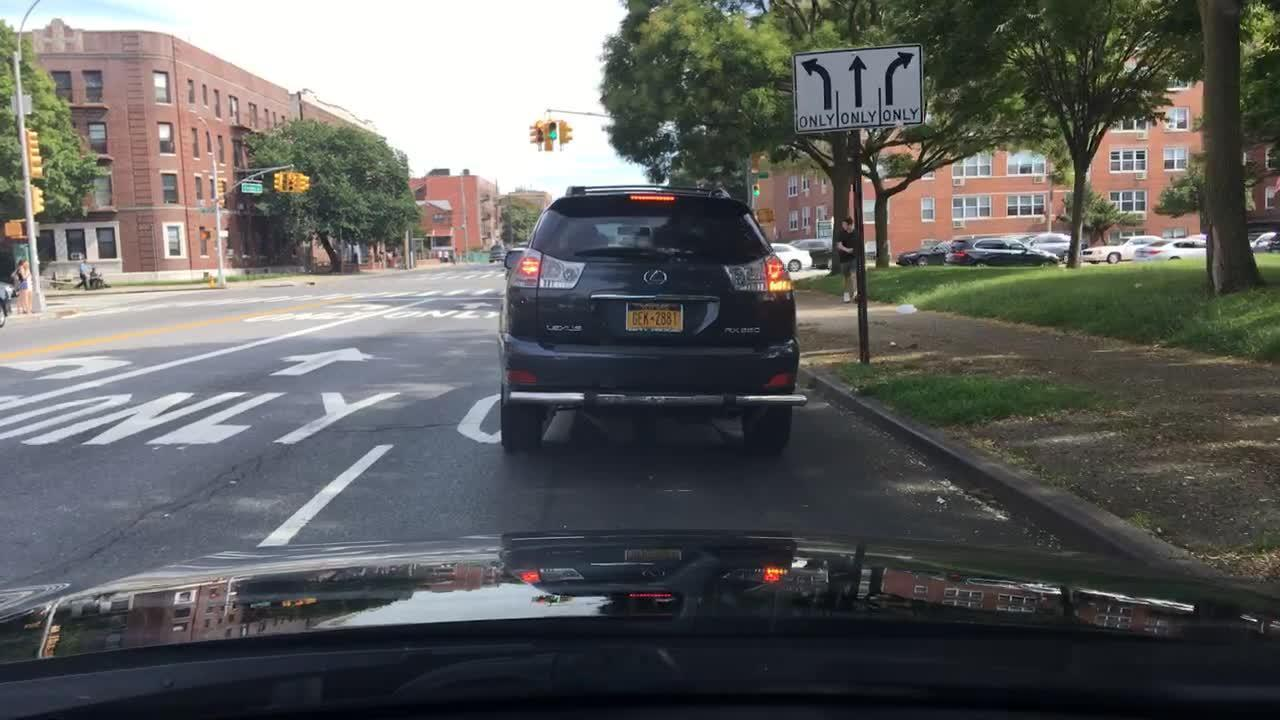lexus: (632, 262, 677, 293)
